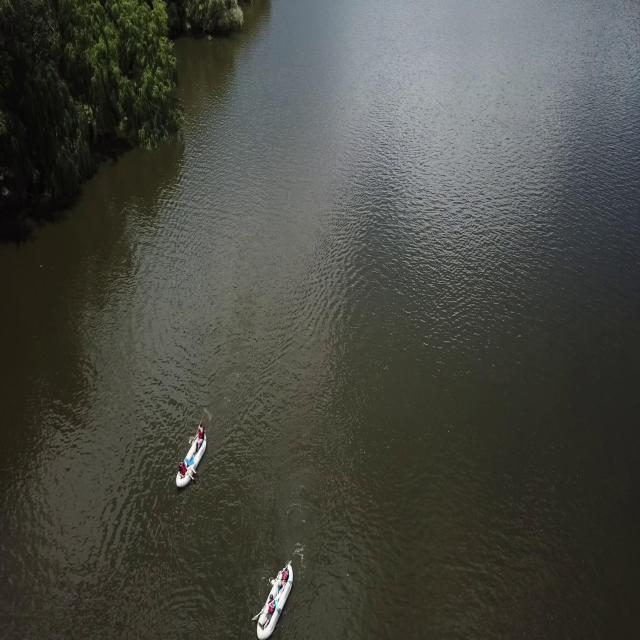kayak: (254, 550, 301, 640), (175, 421, 212, 492)
